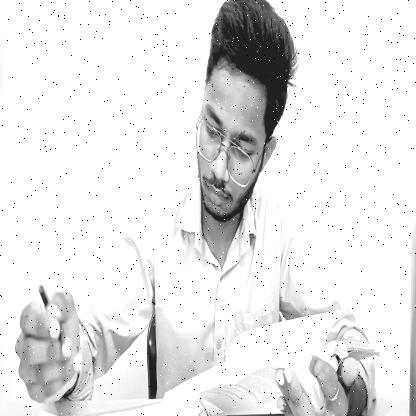Distracted: (193, 0, 298, 230)
